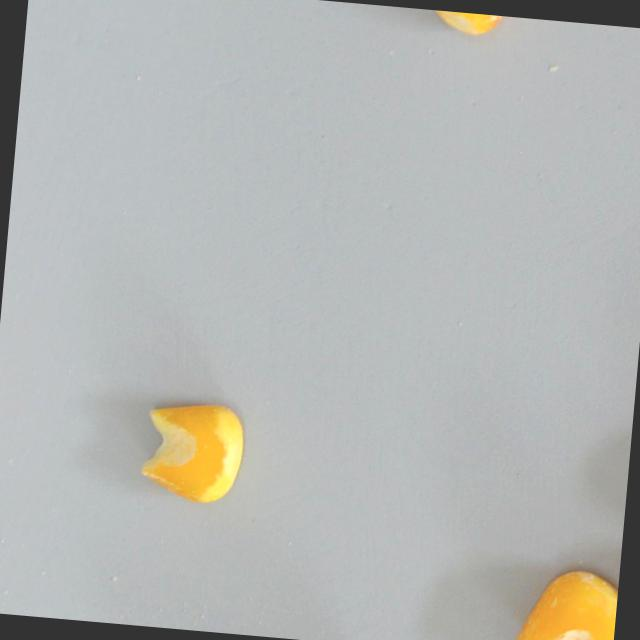dañado: (130, 391, 249, 509), (505, 560, 619, 640), (412, 7, 525, 44)
